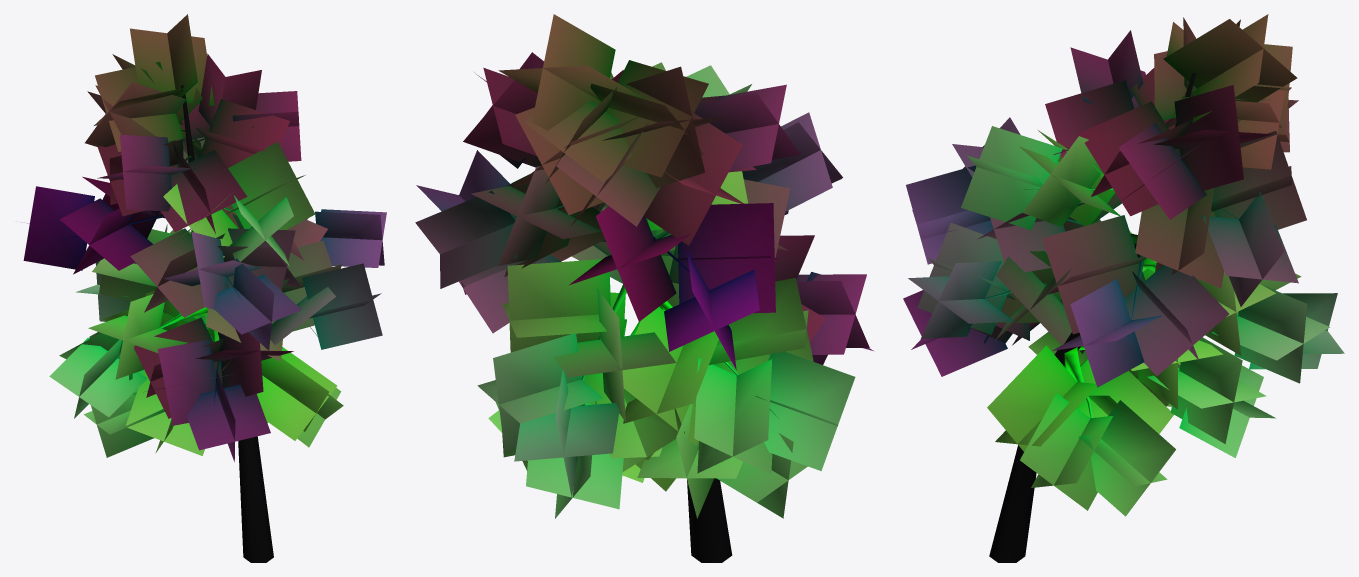
The model's file is URP_P7_Tree_11_LOD_3.fbx.
3 renders of one model, left to right at view 1: azimuth 30°, elevation 25°; view 2: azimuth 150°, elevation 25°; view 3: azimuth 270°, elevation 25°, orthographic. The views are drawn at different scales.
Parts seen in each view (by area): view 1: Tree_11_LOD_3; view 2: Tree_11_LOD_3; view 3: Tree_11_LOD_3.
Boxes of the visible parts, x1,y1,x2,y2 form: Tree_11_LOD_3: (23,14,386,562); Tree_11_LOD_3: (415,14,873,562); Tree_11_LOD_3: (903,14,1344,562).
Bounding box in the file's own units: 295 × 404 × 294.
